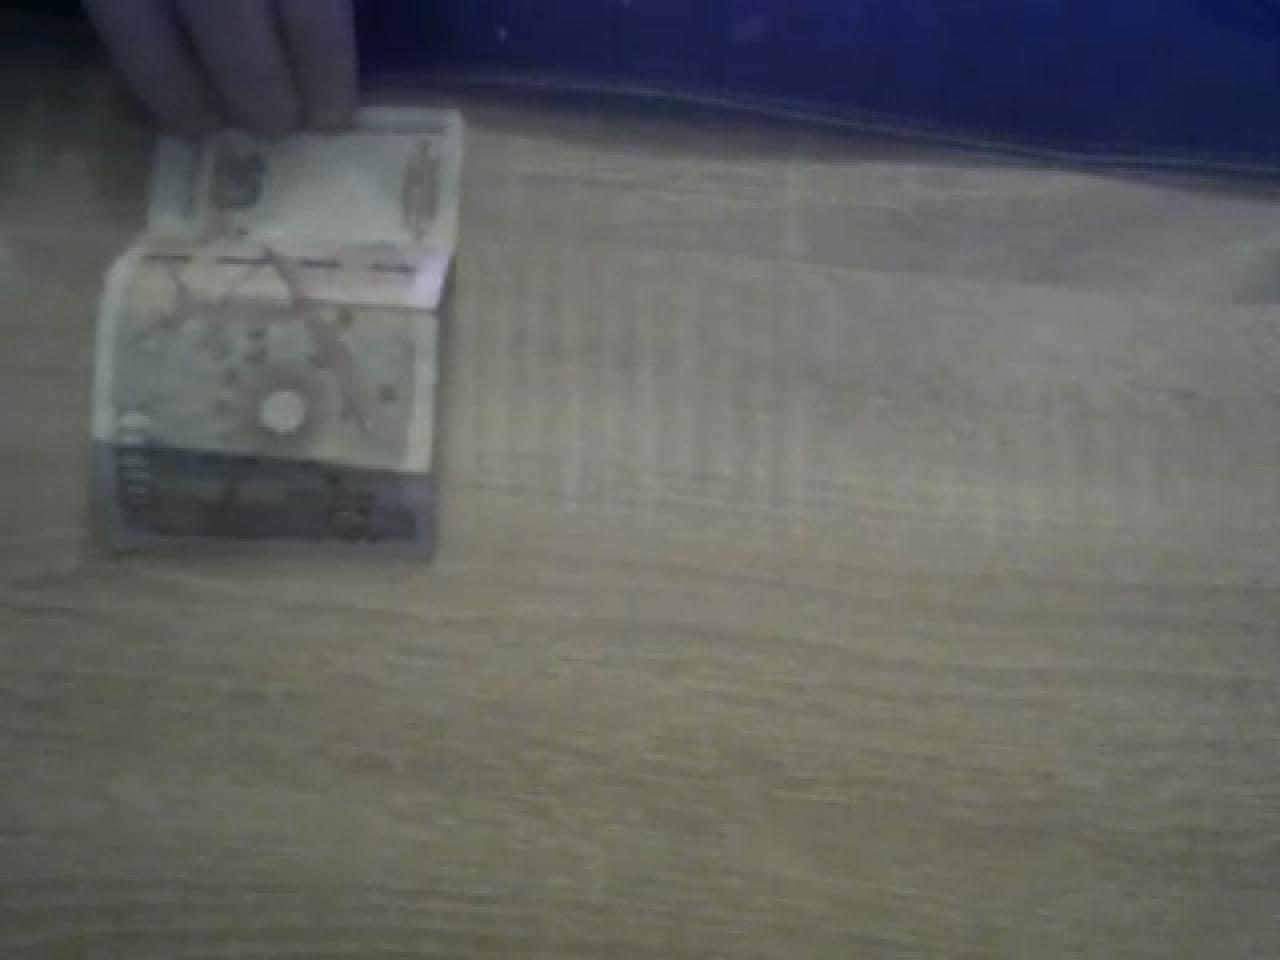10leva: (91, 107, 467, 558)
